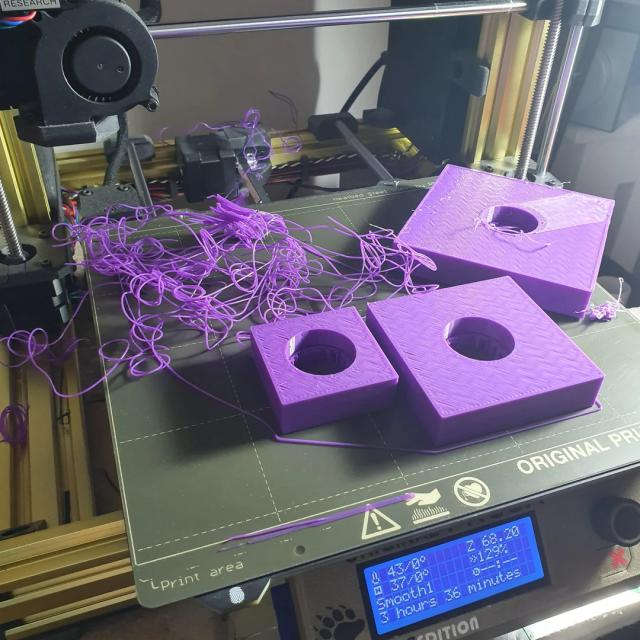Spaghetti: (83, 198, 420, 321)
